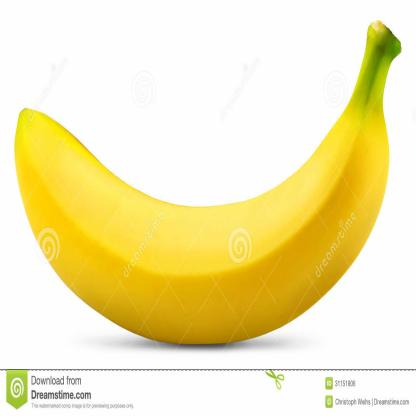banana: (14, 118, 394, 343)
